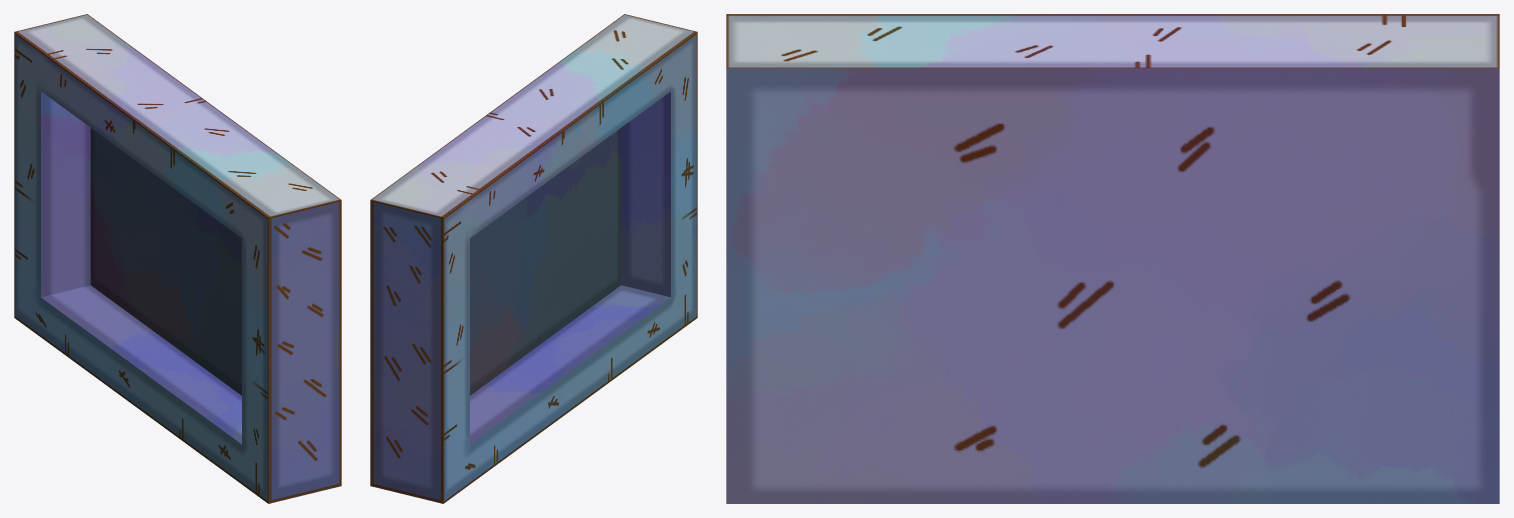
Rendered from Delivery hatch.fbx.
The picture shows the model from 3 angles, left to right: view 1: azimuth 30°, elevation 25°; view 2: azimuth 150°, elevation 25°; view 3: azimuth 270°, elevation 25°; orthographic projection. The views are drawn at different scales.
Visible parts, largest first — view 1: polySurface3; view 2: polySurface3; view 3: polySurface3.
Boxes of the visible parts, <box> form: polySurface3: <box>14,14,341,503</box>; polySurface3: <box>370,14,697,503</box>; polySurface3: <box>726,14,1499,503</box>.
Size of the model in its own units: 13.28 by 49.74 by 80.03.
